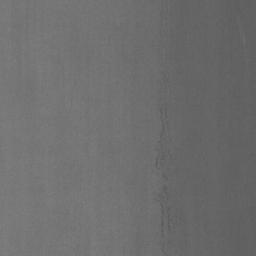Silk spot: (157, 185, 172, 237), (158, 104, 168, 148), (155, 150, 169, 169)
